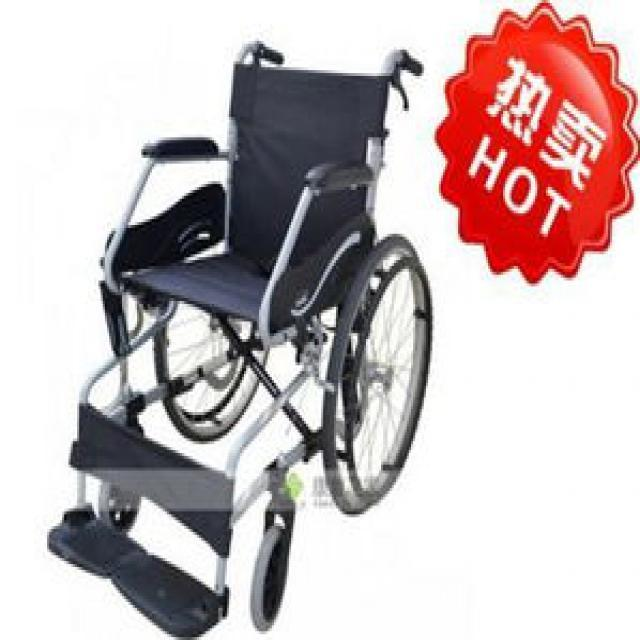wheelchair: (38, 29, 434, 637)
